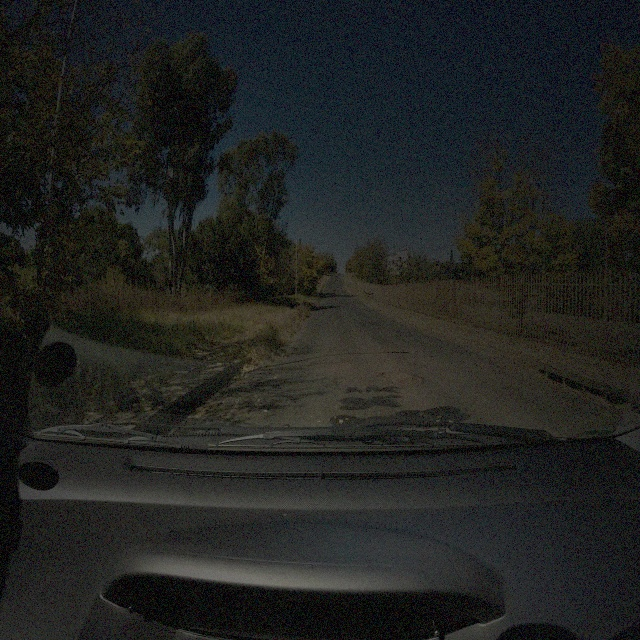pothole: (374, 370, 424, 392), (474, 358, 501, 375), (392, 342, 415, 353), (408, 360, 426, 370)
